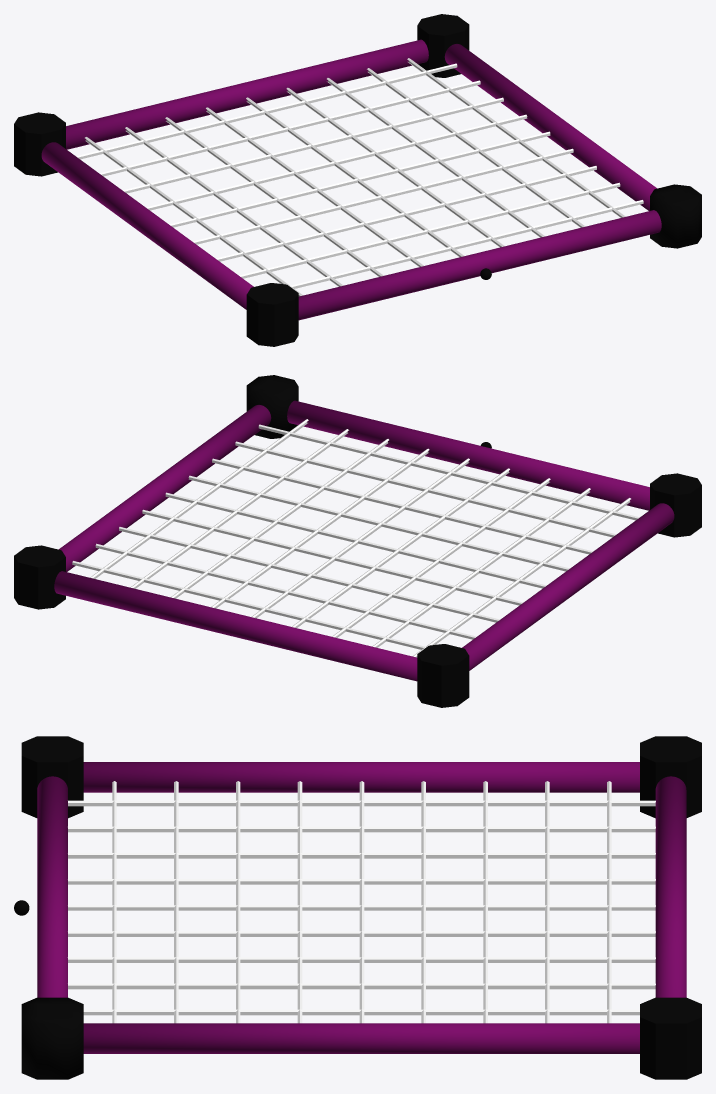
The model's file is lift_platform.glb.
3 views of the same model, one above another, from view 1: azimuth 30°, elevation 25°; view 2: azimuth 150°, elevation 25°; view 3: azimuth 270°, elevation 25° (orthographic). The views are drawn at different scales.
Parts seen in each view (by area): view 1: Cube.019, Cylinder.008, Cylinder.005, Cylinder.011, Cylinder.001, Cube.007, Cube.009, Cube.005, Cube.011; view 2: Cube.019, Cylinder.005, Cylinder.008, Cylinder.011, Cylinder.001, Cube.005, Cube.011, Cube.007, Cube.009; view 3: Cube.019, Cylinder.001, Cylinder.011, Cylinder.005, Cylinder.008, Cube.009, Cube.011, Cube.007, Cube.005.
Boxes of the visible parts, x1,y1,x2,y2 form: Cube.019: (76, 58, 643, 296); Cylinder.008: (298, 210, 661, 320); Cylinder.005: (66, 39, 428, 149); Cylinder.011: (41, 142, 253, 309); Cylinder.001: (444, 44, 656, 210); Cube.007: (246, 283, 298, 346); Cube.009: (650, 184, 701, 248); Cube.005: (14, 112, 65, 176); Cube.011: (417, 14, 469, 77); Cube.019: (72, 419, 639, 657); Cylinder.005: (54, 571, 417, 681); Cylinder.008: (287, 400, 649, 510); Cylinder.011: (462, 503, 674, 670); Cylinder.001: (59, 405, 271, 571); Cube.005: (417, 644, 469, 707); Cube.011: (14, 545, 65, 609); Cube.007: (650, 473, 701, 537); Cube.009: (246, 375, 298, 438); Cube.019: (67, 781, 655, 1023); Cylinder.001: (83, 1023, 639, 1053); Cylinder.011: (83, 762, 639, 792); Cylinder.005: (655, 776, 686, 997); Cylinder.008: (37, 776, 67, 997); Cube.009: (21, 997, 83, 1079); Cube.011: (640, 997, 701, 1079); Cube.007: (21, 736, 83, 818); Cube.005: (640, 736, 701, 818).
Bounding box in the file's own units: 22 × 2 × 22.25.
